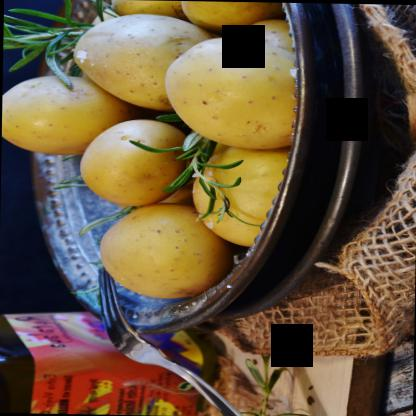potato: (162, 36, 298, 146), (96, 204, 232, 300), (70, 14, 200, 102), (1, 73, 125, 158), (76, 118, 188, 209), (190, 145, 288, 249)
